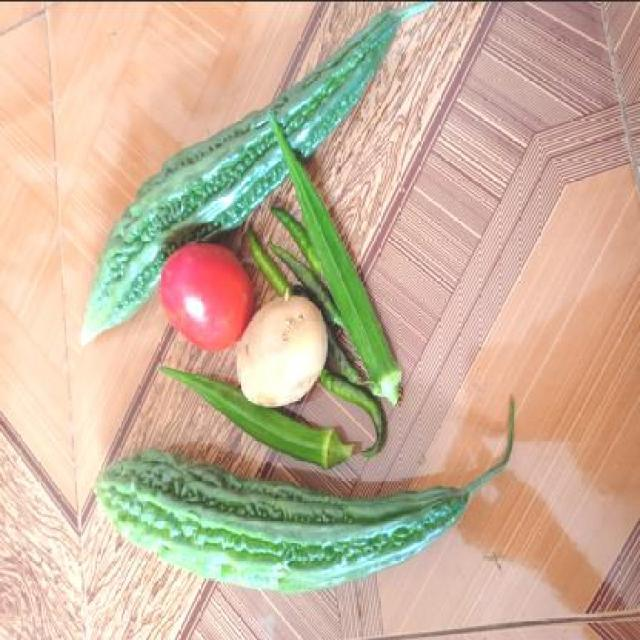Bitter melon: (74, 443, 502, 585)
Lady finger: (337, 136, 408, 438), (168, 390, 360, 468)
Potato: (238, 297, 331, 408)
Tomato: (163, 244, 252, 358)
